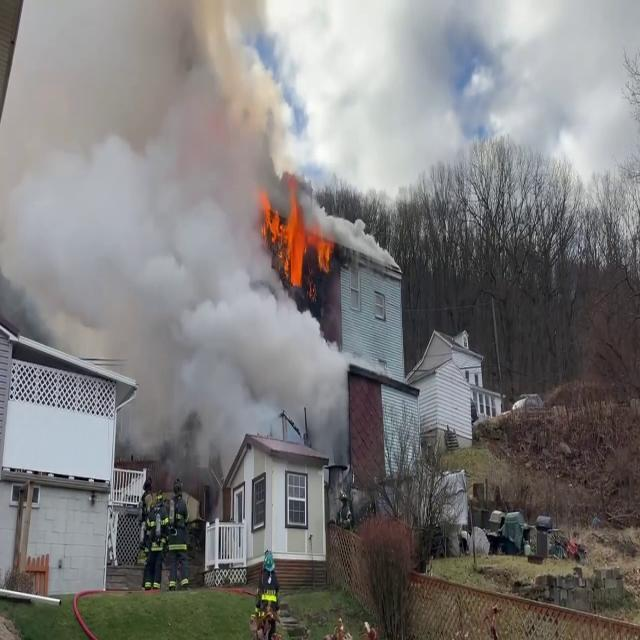Fire: (258, 182, 336, 292)
Smoke: (1, 0, 338, 464)
